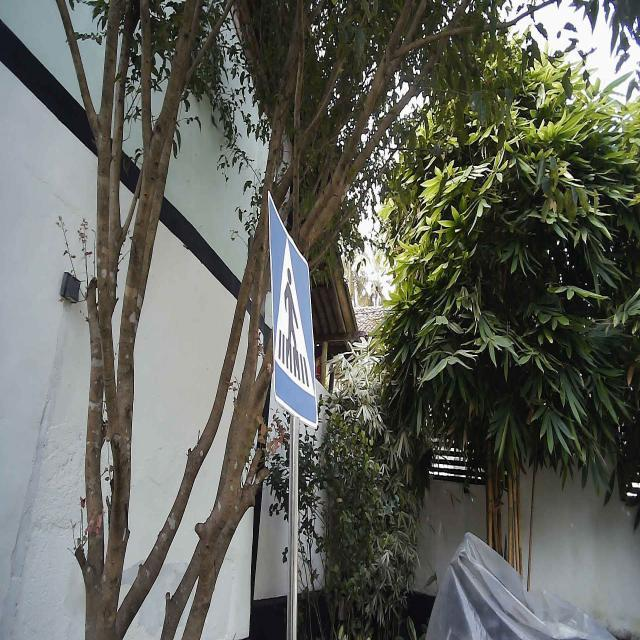crosswalk_sign: (266, 188, 320, 430)
